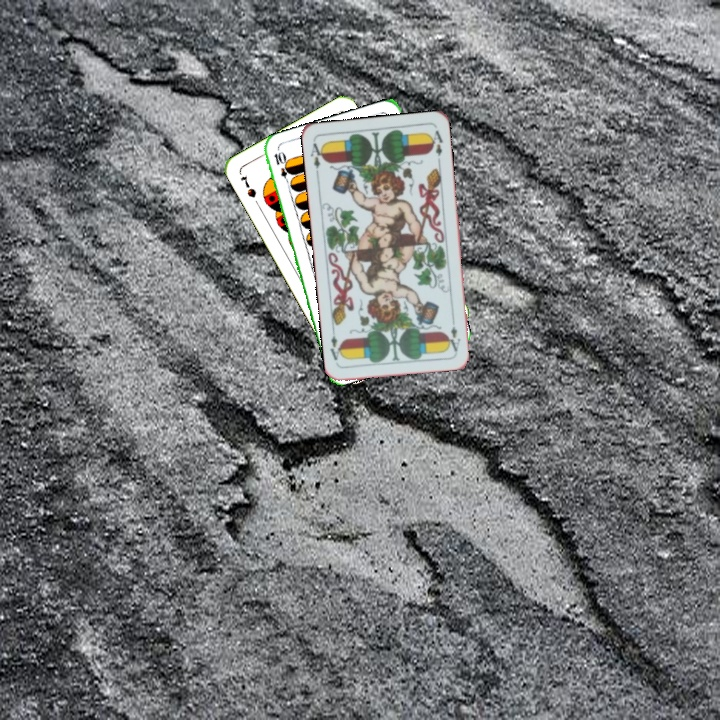E10: (270, 148, 293, 188)
EA: (306, 139, 327, 178), (446, 313, 462, 354)
S7: (237, 171, 259, 200)
